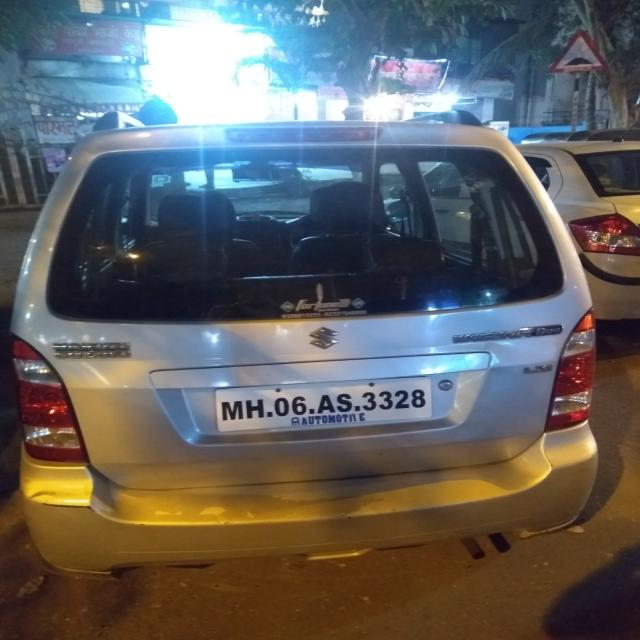Number-Plate: (210, 384, 442, 432)
